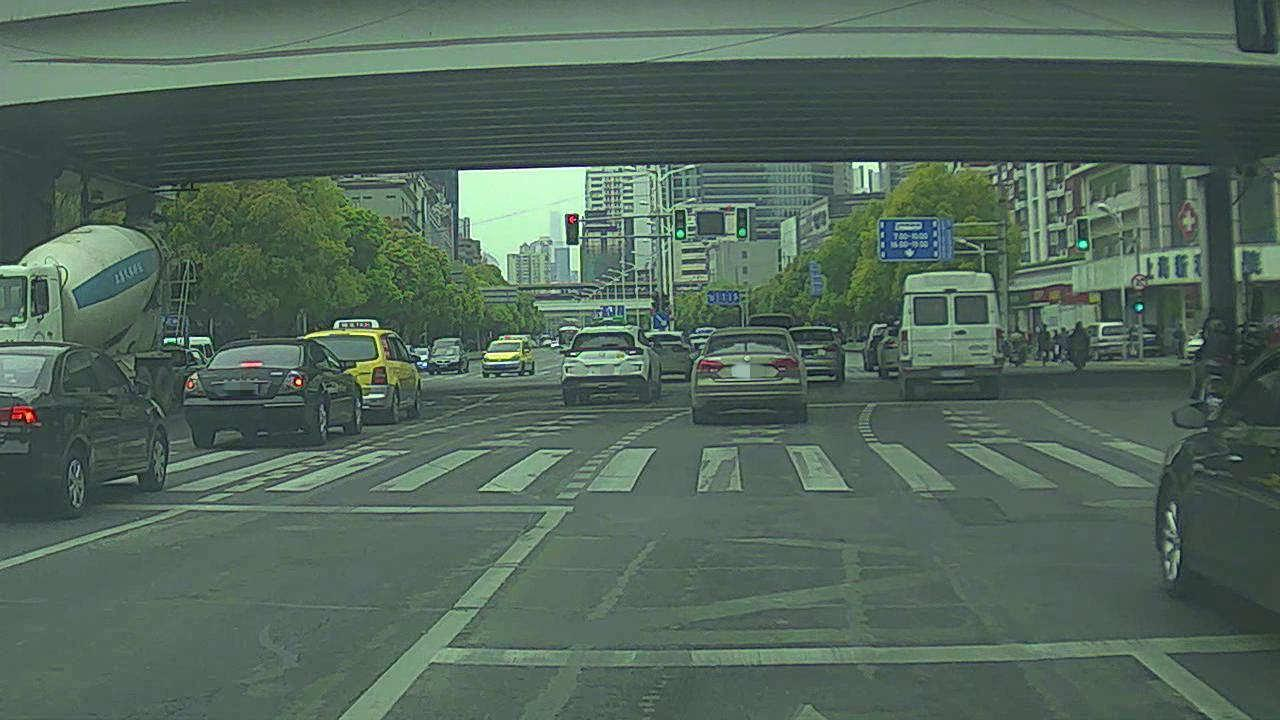traffic_light: (564, 213, 580, 246), (736, 206, 750, 239), (675, 209, 688, 241), (1078, 219, 1091, 250)
